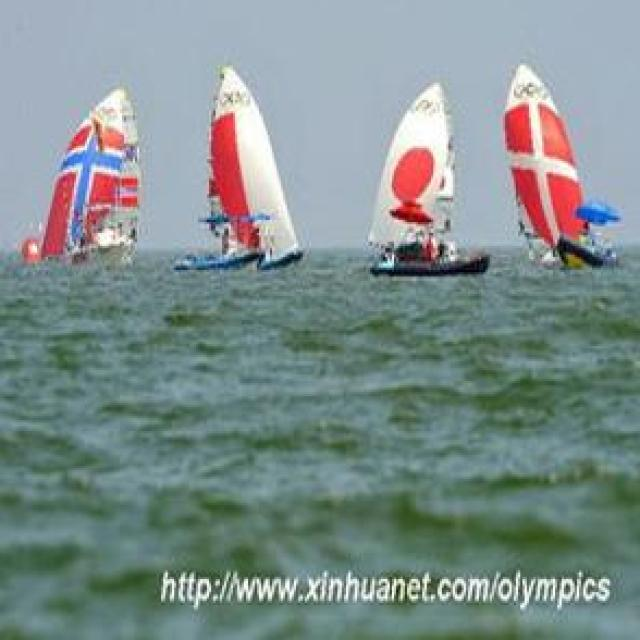sailboat: (362, 71, 490, 281), (180, 65, 304, 272), (504, 55, 622, 271), (34, 80, 152, 278)
